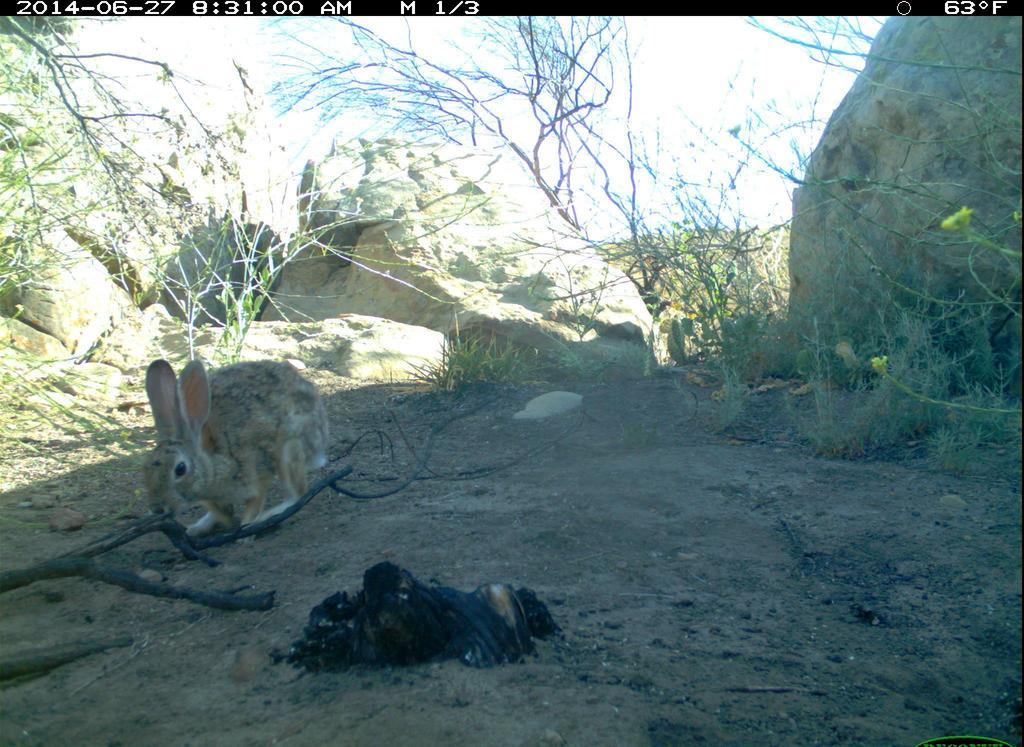rabbit: (117, 332, 347, 530)
